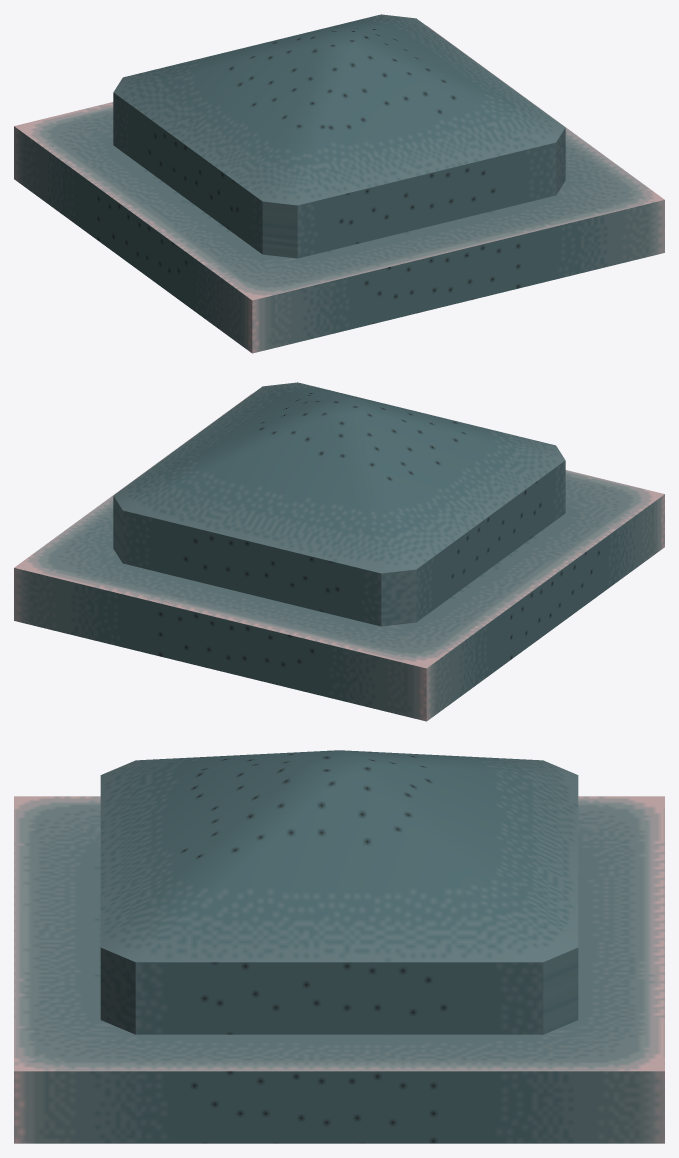
The model's file is yk_katto_lvi_kattoluukku2.fbx.
The picture shows the model from 3 angles, top to bottom: view 1: azimuth 30°, elevation 25°; view 2: azimuth 150°, elevation 25°; view 3: azimuth 270°, elevation 25°; orthographic projection. The views are drawn at different scales.
Parts seen in each view (by area): view 1: Cube.020; view 2: Cube.020; view 3: Cube.020.
Part boxes in pixels (x1=…): Cube.020: x1=14, y1=14, x2=664, y2=353; Cube.020: x1=14, y1=382, x2=664, y2=721; Cube.020: x1=14, y1=750, x2=664, y2=1143.
Size of the model in its own units: 178 by 72.84 by 178.
